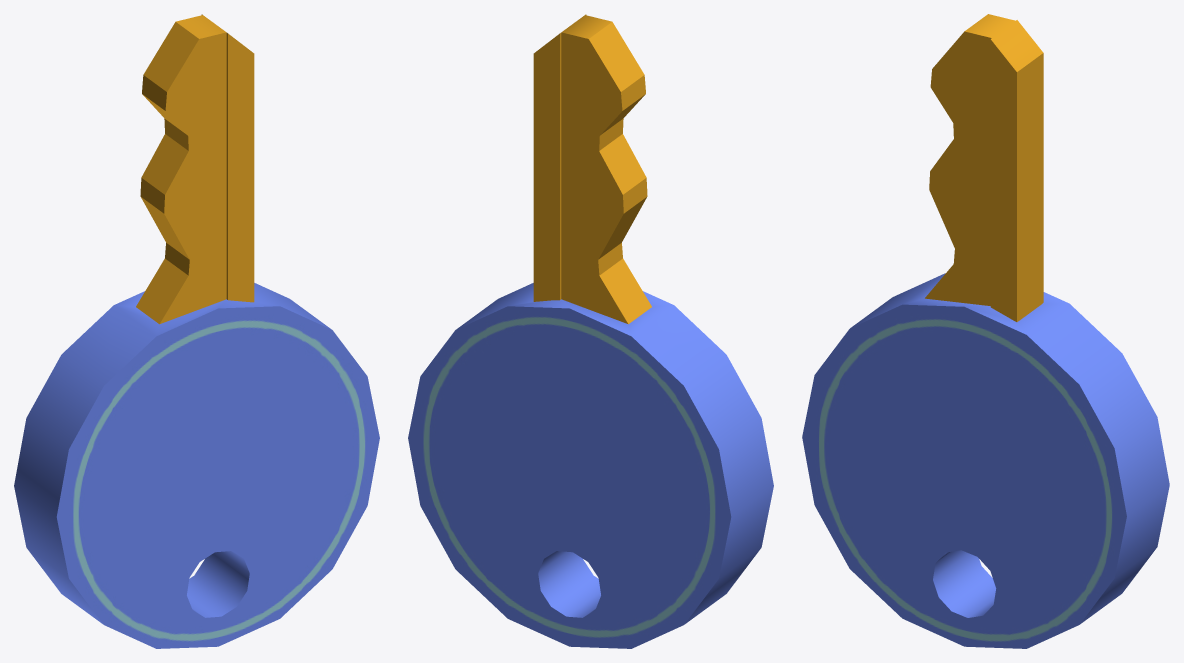
Rendered from MEC0210002.fbx.
3 renders of one model, left to right at view 1: azimuth 30°, elevation 25°; view 2: azimuth 150°, elevation 25°; view 3: azimuth 330°, elevation 25°, orthographic.
Visible parts, largest first — view 1: smMEC0210002; view 2: smMEC0210002; view 3: smMEC0210002.
Boxes of the visible parts, x1,y1,x2,y2 form: smMEC0210002: (14,14,379,648); smMEC0210002: (408,14,773,648); smMEC0210002: (802,14,1169,648).
Bounding box in the file's own units: 36.3 × 64.72 × 8.3.
1 material, 1 textured.
